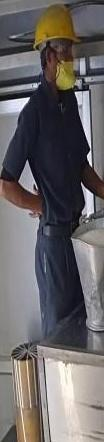hard-hat: (25, 8, 83, 52)
